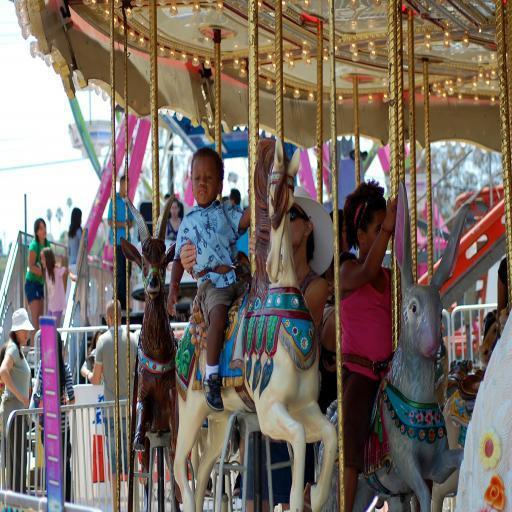horse: (172, 132, 338, 512)
